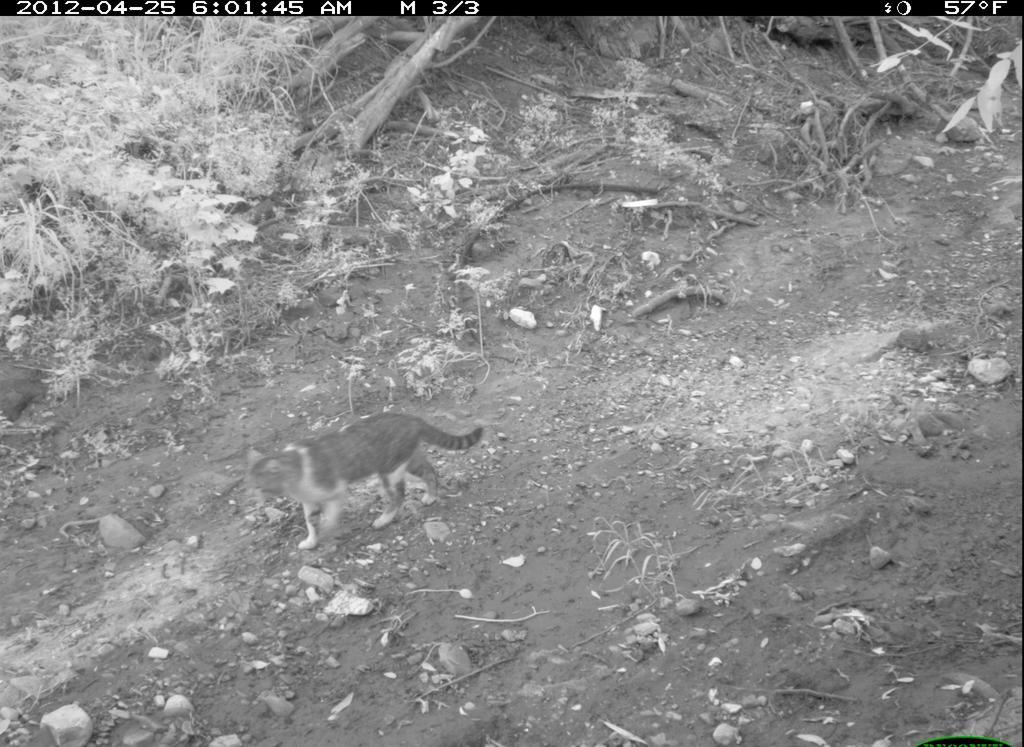cat: (240, 402, 493, 561)
